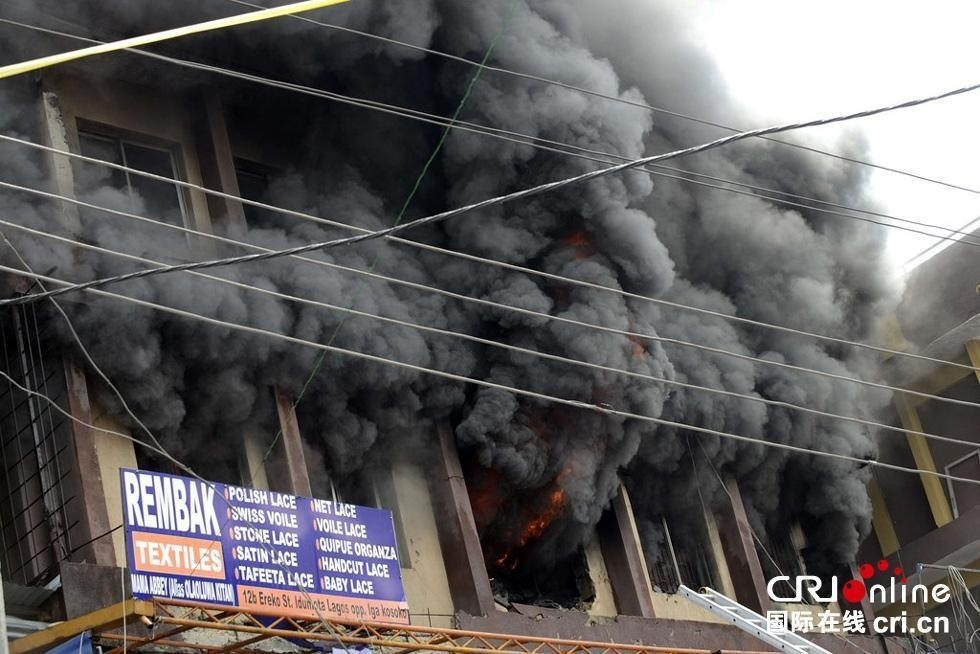fire: (493, 477, 569, 564)
